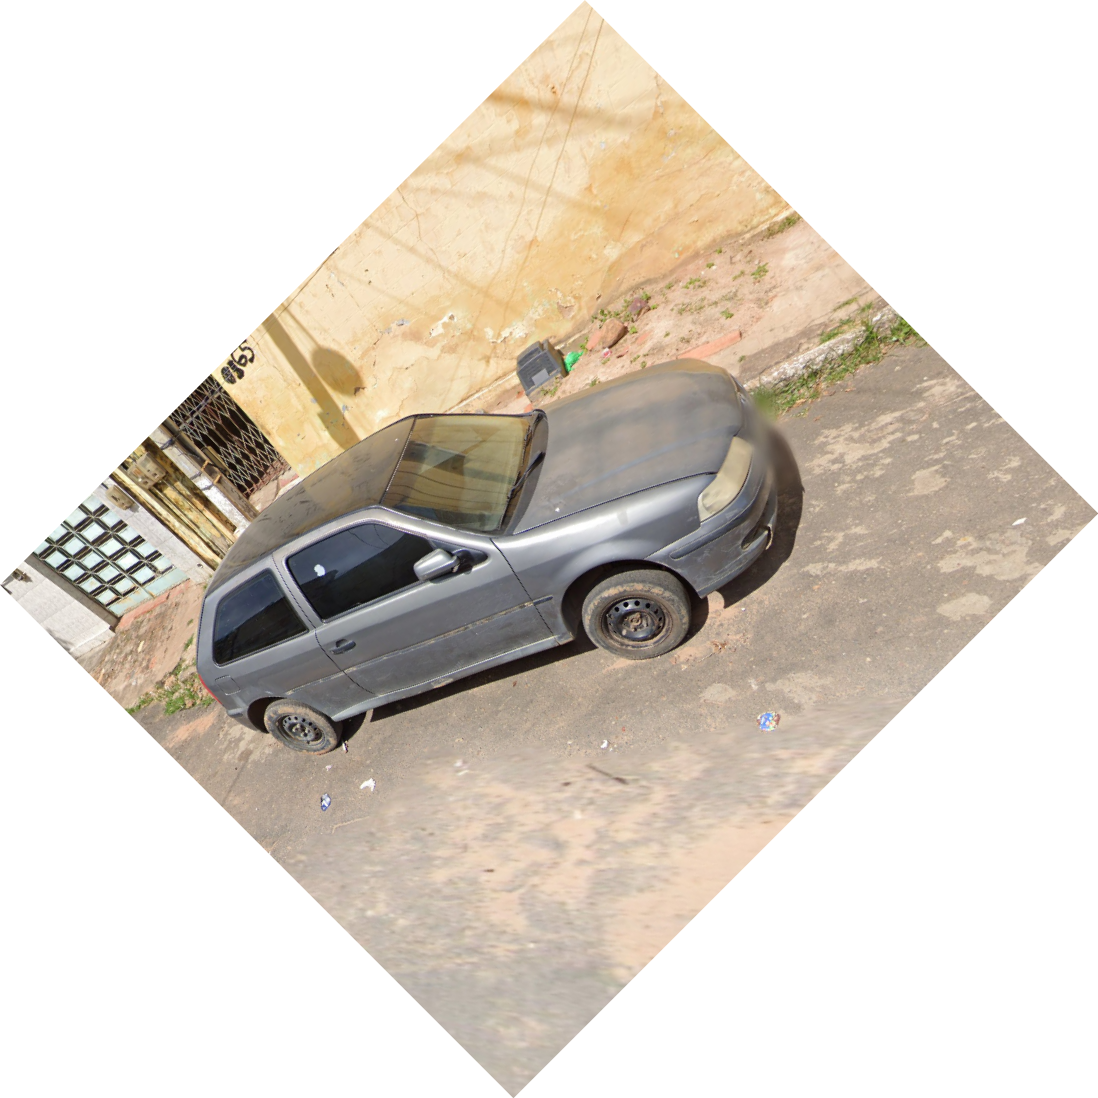car: (192, 350, 834, 760)
